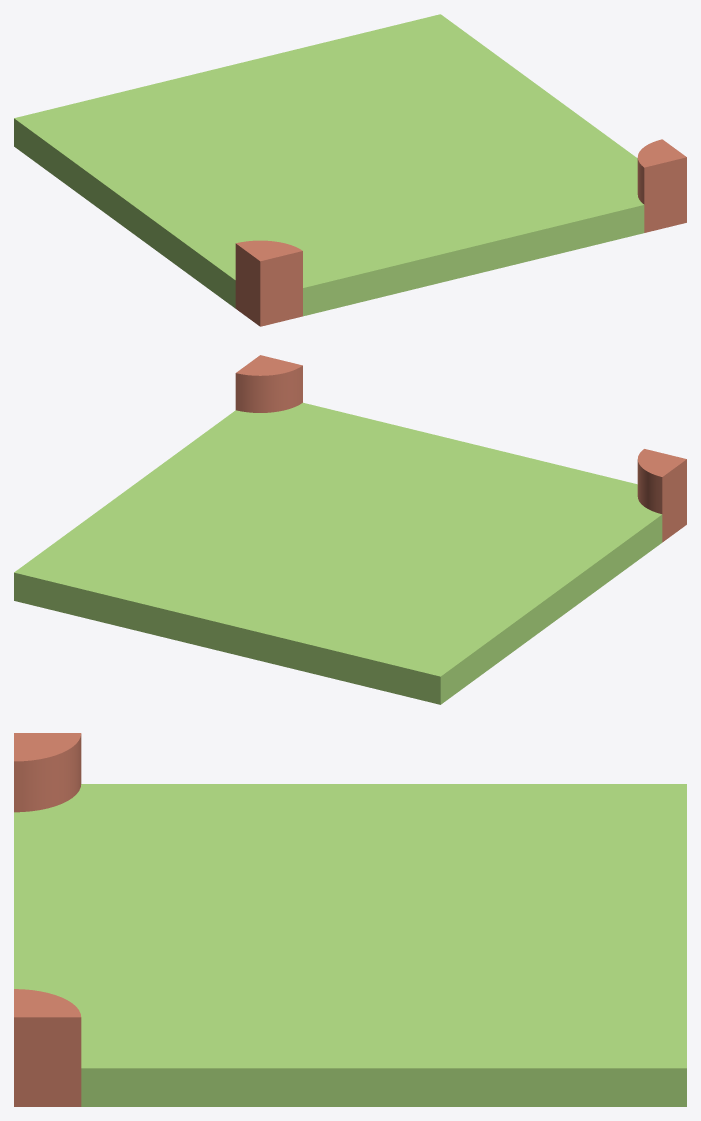
File: Walls_to_open_01.glb
The picture shows the model from 3 angles, top to bottom: view 1: azimuth 30°, elevation 25°; view 2: azimuth 150°, elevation 25°; view 3: azimuth 270°, elevation 25°; orthographic projection. The views are drawn at different scales.
Parts seen in each view (by area): view 1: Mesh1 Walls_to_open Model; view 2: Mesh1 Walls_to_open Model; view 3: Mesh1 Walls_to_open Model.
Boxes of the visible parts, bbox=[...] form: Mesh1 Walls_to_open Model: bbox=[14, 14, 686, 326]; Mesh1 Walls_to_open Model: bbox=[14, 355, 686, 704]; Mesh1 Walls_to_open Model: bbox=[14, 733, 686, 1106].
Bounding box in the file's own units: 3 × 0.44 × 3.
